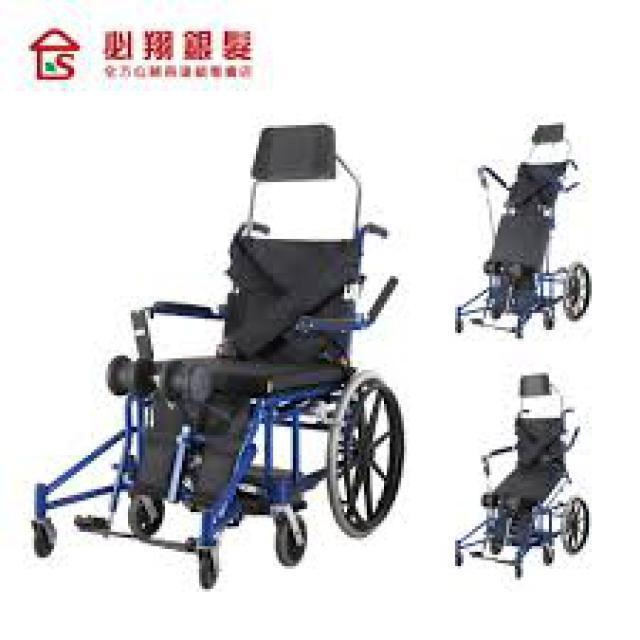wheelchairs: (14, 127, 406, 586), (451, 372, 591, 580), (459, 121, 591, 336)
